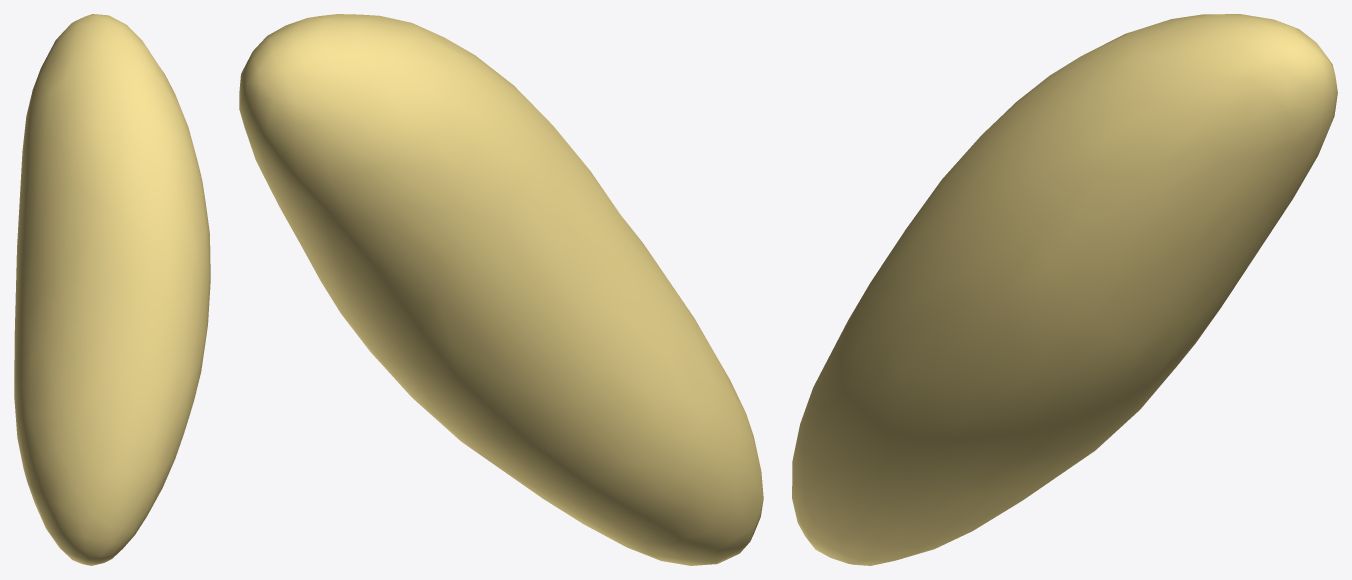
The model's file is fma53478_mm2599m.glb.
3 views of the same model, side by side, from view 1: azimuth 30°, elevation 25°; view 2: azimuth 150°, elevation 25°; view 3: azimuth 270°, elevation 25° (orthographic). The views are drawn at different scales.
Visible parts, largest first — view 1: FMA53478_MM2599M; view 2: FMA53478_MM2599M; view 3: FMA53478_MM2599M.
Boxes of the visible parts, box(x1,y1,x2,y2) form: FMA53478_MM2599M: box(14, 14, 210, 565); FMA53478_MM2599M: box(239, 14, 763, 565); FMA53478_MM2599M: box(792, 14, 1337, 565).
Size of the model in its own units: 0.00376 by 0.00666 by 0.00517.
